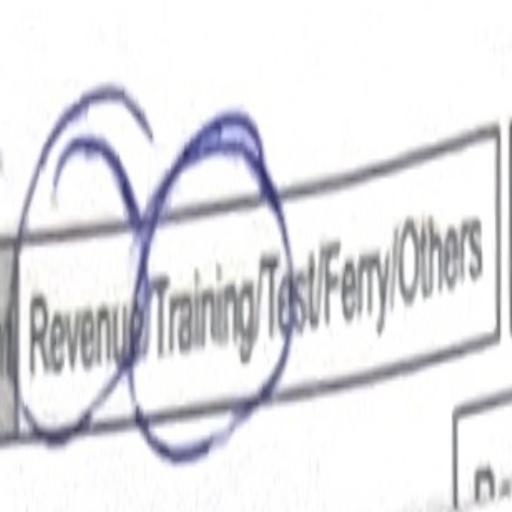check: (13, 146, 142, 512), (144, 94, 266, 472)
